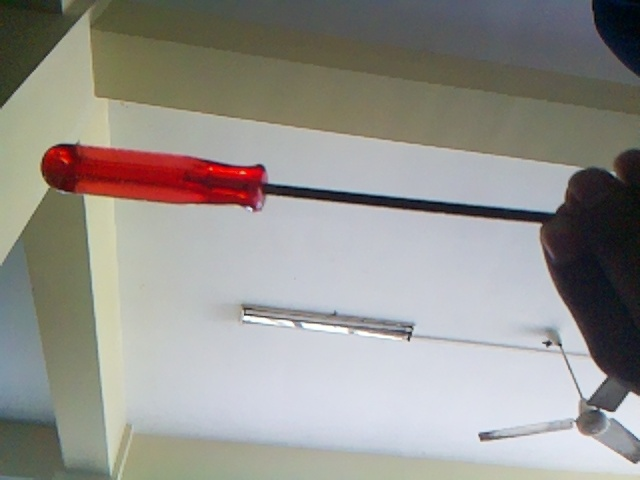redskrew: (35, 139, 542, 236)
